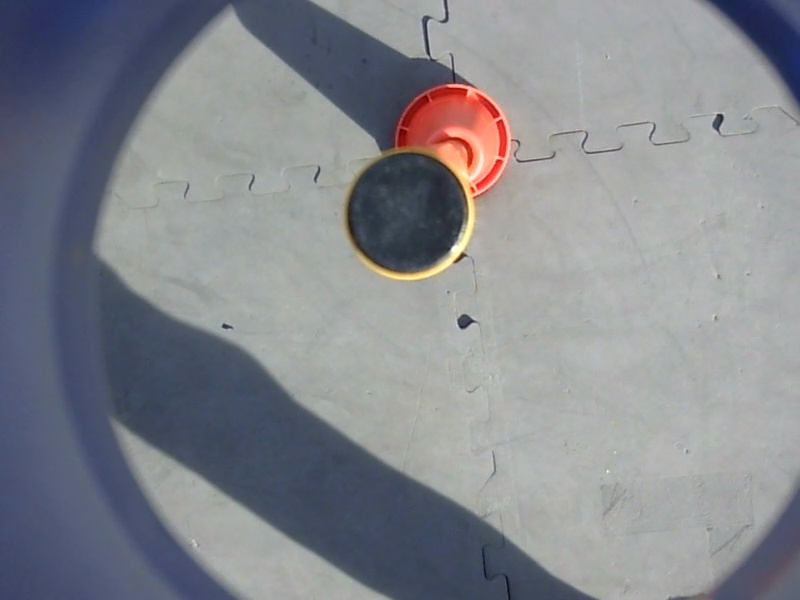tip: (327, 143, 483, 291)
